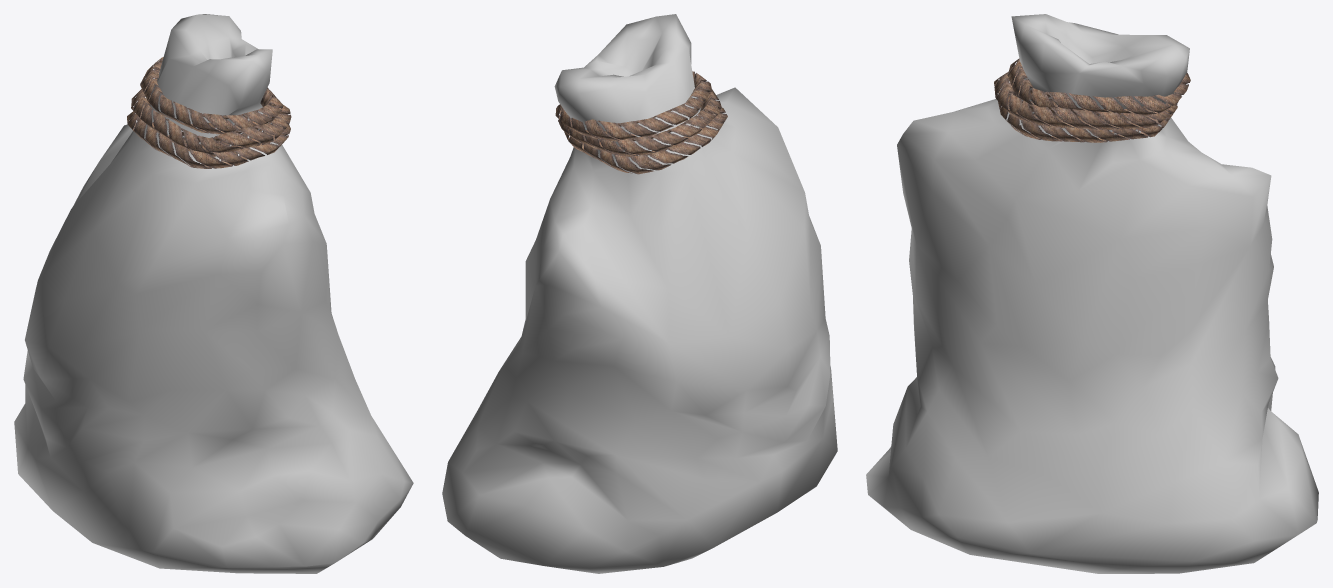
The picture shows the model from 3 angles, left to right: view 1: azimuth 30°, elevation 25°; view 2: azimuth 150°, elevation 25°; view 3: azimuth 270°, elevation 25°; orthographic projection. The views are drawn at different scales.
Parts seen in each view (by area): view 1: SM_ClosedSack_01_LOD0; view 2: SM_ClosedSack_01_LOD0; view 3: SM_ClosedSack_01_LOD0.
Part boxes in pixels (left/top/right/bottom): SM_ClosedSack_01_LOD0: left=14, top=14, right=413, bottom=573; SM_ClosedSack_01_LOD0: left=442, top=14, right=837, bottom=573; SM_ClosedSack_01_LOD0: left=866, top=14, right=1318, bottom=573.
Size of the model in its own units: 0.5165 by 0.7575 by 0.601.
